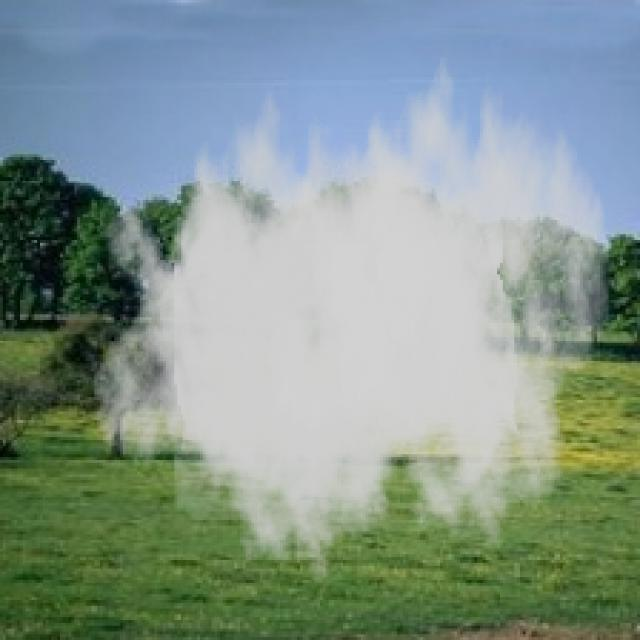smoke: (91, 31, 612, 592)
